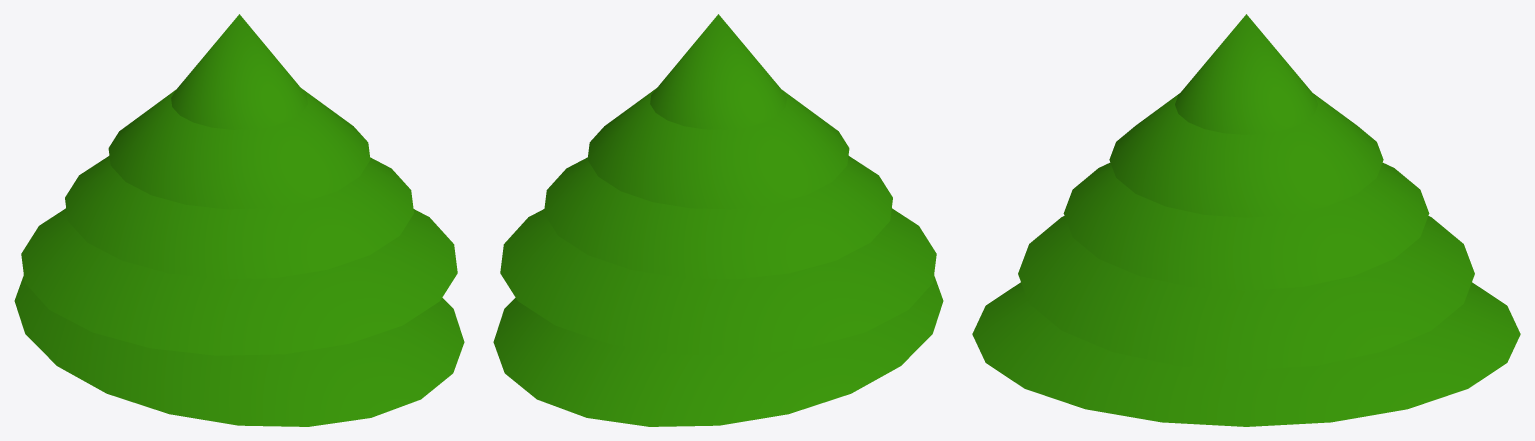
The model's file is tree2.fbx.
3 views of the same model, side by side, from view 1: azimuth 30°, elevation 25°; view 2: azimuth 150°, elevation 25°; view 3: azimuth 270°, elevation 25° (orthographic). The views are drawn at different scales.
Visible parts, largest first — view 1: pCone3, pCone1, pCone5, pCone8, pCone9; view 2: pCone3, pCone1, pCone5, pCone8, pCone9; view 3: pCone3, pCone1, pCone5, pCone8, pCone9.
Part boxes in pixels (bbox=[...]): pCone3: bbox=[21, 208, 457, 355]; pCone1: bbox=[14, 275, 464, 426]; pCone5: bbox=[65, 156, 413, 279]; pCone8: bbox=[108, 88, 370, 209]; pCone9: bbox=[171, 14, 307, 129]; pCone3: bbox=[500, 208, 936, 355]; pCone1: bbox=[493, 275, 943, 426]; pCone5: bbox=[544, 156, 892, 279]; pCone8: bbox=[587, 88, 849, 209]; pCone9: bbox=[650, 14, 786, 129]; pCone3: bbox=[1018, 216, 1474, 370]; pCone1: bbox=[972, 282, 1520, 426]; pCone5: bbox=[1063, 162, 1429, 290]; pCone8: bbox=[1109, 93, 1383, 217]; pCone9: bbox=[1175, 14, 1317, 134].
Size of the model in its own units: 13.71 by 12.81 by 16.46.
